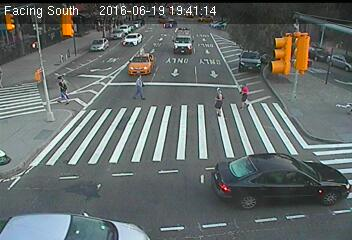neg: (219, 163, 250, 203), (303, 178, 331, 215), (136, 129, 164, 165), (249, 36, 275, 70), (178, 35, 197, 61), (48, 41, 67, 66), (69, 27, 86, 51), (93, 28, 109, 50), (128, 37, 142, 56)
pos: (232, 80, 256, 112), (207, 85, 231, 117), (50, 73, 73, 105), (129, 73, 151, 102)
